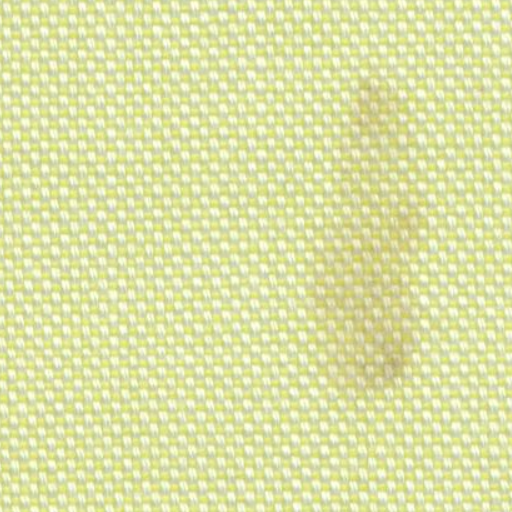WuZi: (293, 74, 452, 418)
